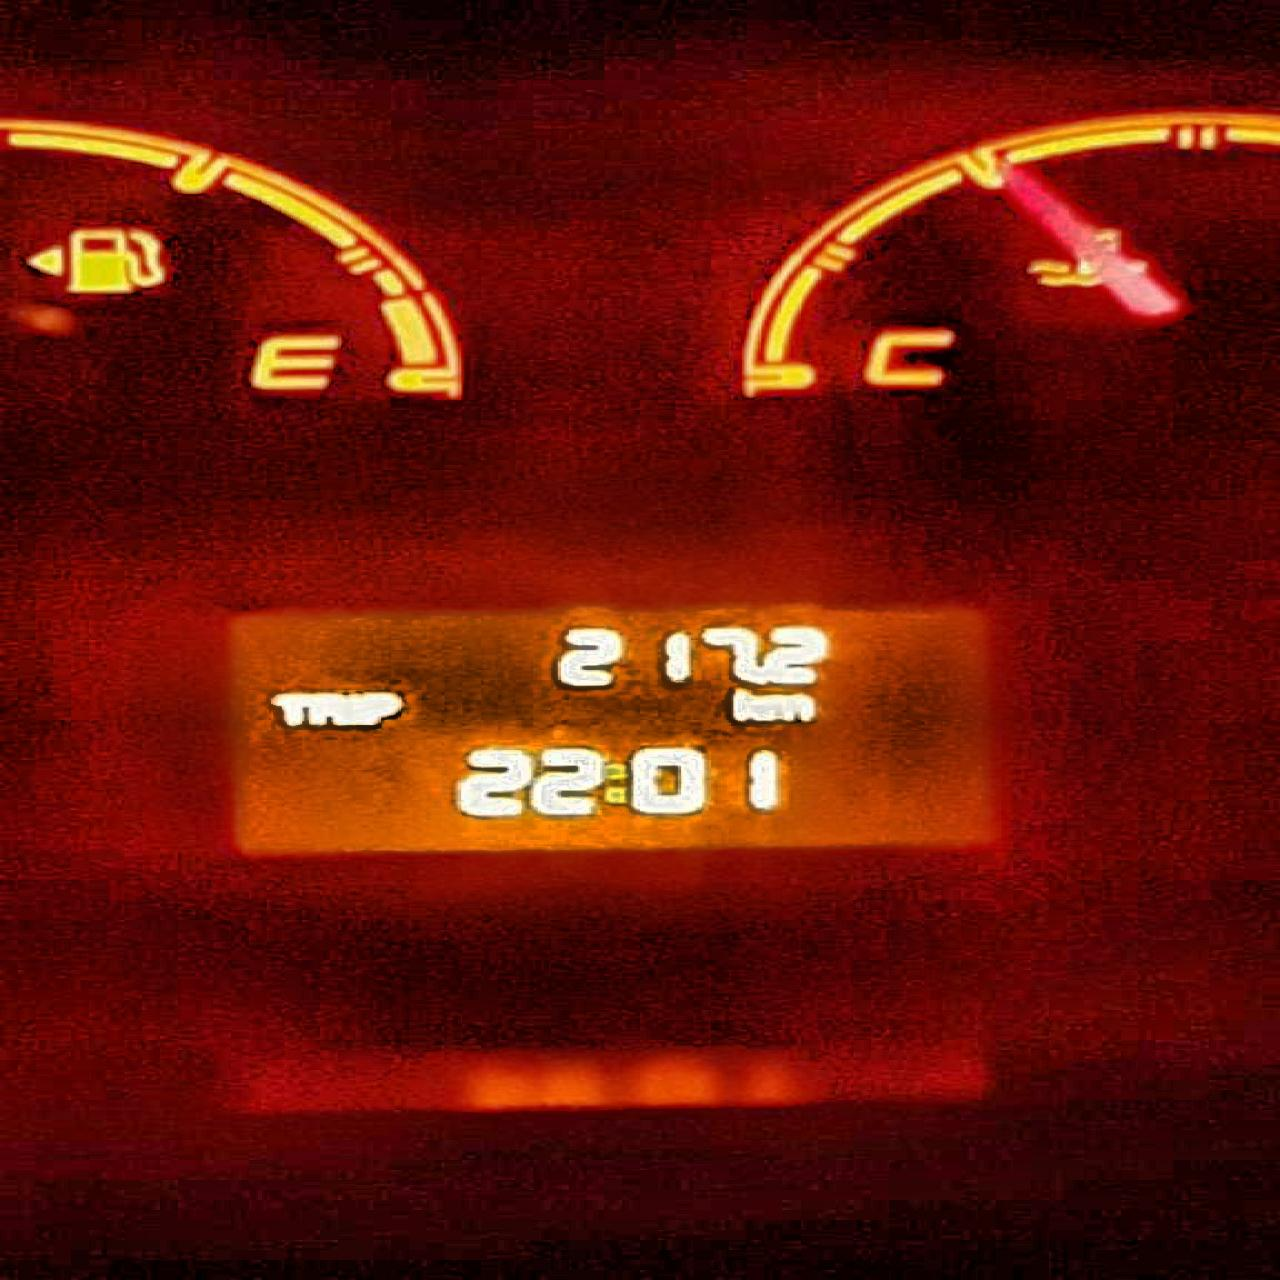-: (751, 665, 767, 685)
0: (626, 744, 707, 816)
1: (735, 743, 787, 816), (654, 626, 694, 686)
2: (451, 743, 529, 818), (529, 743, 602, 817), (549, 622, 625, 688), (762, 621, 831, 685)
7: (695, 625, 754, 685)
X: (762, 689, 816, 722), (362, 688, 404, 728), (268, 688, 309, 728), (727, 685, 762, 724), (309, 692, 347, 727), (602, 757, 627, 809), (349, 692, 362, 727)
odometer: (211, 593, 1013, 863)
